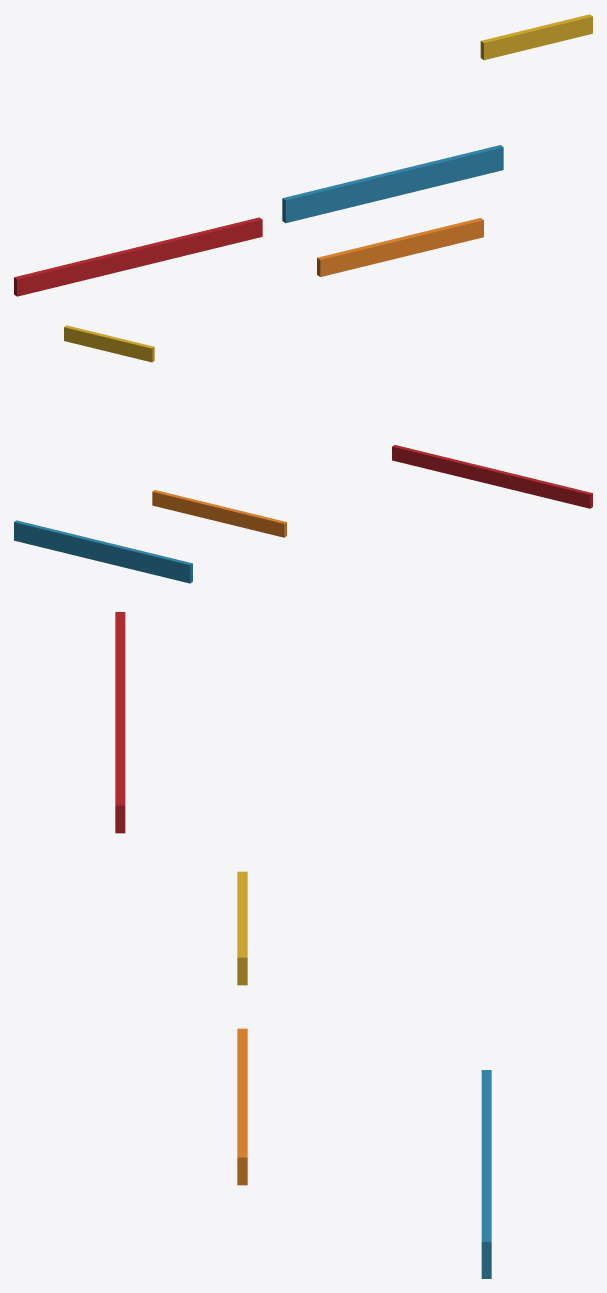
File: lubricating_oil_skid_pressure.glb
3 renders of one model, top to bottom at view 1: azimuth 30°, elevation 25°; view 2: azimuth 150°, elevation 25°; view 3: azimuth 270°, elevation 25°, orthographic. The views are drawn at different scales.
Parts seen in each view (by area): view 1: pressure__front, pressure__back; view 2: pressure__front, pressure__back; view 3: pressure__front, pressure__back.
Boxes of the visible parts, <box> form: pressure__front: <box>14,14,592,296</box>; pressure__back: <box>282,145,503,223</box>; pressure__front: <box>64,325,592,537</box>; pressure__back: <box>14,520,192,583</box>; pressure__front: <box>115,612,247,1185</box>; pressure__back: <box>481,1070,491,1278</box>.
Size of the model in its own units: 2.25 by 0.72 by 0.74.
